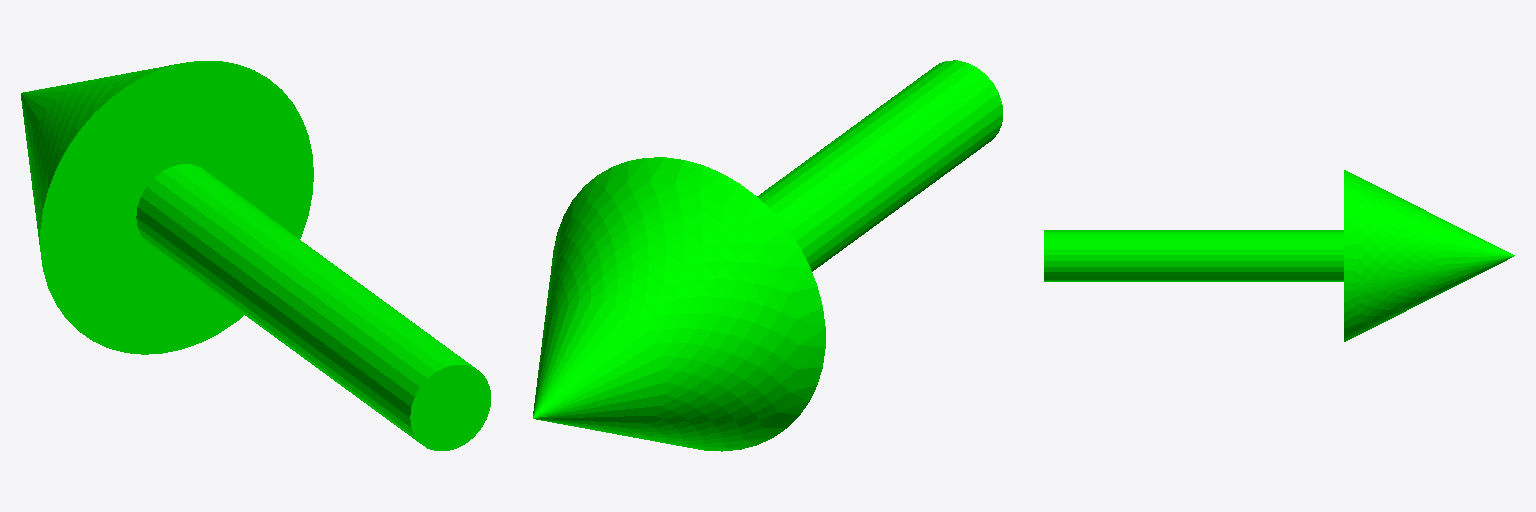
robot.urdf — green_arrow:
<?xml version="1.0"?>
<robot name="green_arrow">
  <link name="base_link">
    <visual>
      <geometry>
        <mesh filename="arrow.stl" scale="0.001 0.001 0.001"/>
      </geometry>
      <material name="green">
            <color rgba="0 1 0 1"/>
      </material>
    </visual>
    <inertial>
        <origin xyz="0 0 0" rpy="0 0 0" />
        <mass value="0" />
        <inertia ixx="0.0" ixy="0.0" ixz="0.0" iyy="0.0" iyz="0.0" izz="0.0" />
     </inertial>
  </link>
</robot>

--- Facts derived from the render (not from the file) ---
3 views of the same robot in one strip: view 1: azimuth 30°, elevation 25°; view 2: azimuth 150°, elevation 25°; view 3: azimuth 270°, elevation 25° (orthographic).
Model green_arrow with 1 links and 0 joints (none), rooted at base_link, posed all joints at 0.
Links seen in each view (by area): view 1: base_link; view 2: base_link; view 3: base_link.
Link boxes in pixels (left/top/right/bottom): base_link: left=21, top=61, right=490, bottom=450; base_link: left=533, top=60, right=1002, bottom=451; base_link: left=1044, top=170, right=1514, bottom=341.
Bounding box of the posed robot: 0.0404 × 0.11 × 0.0404 m (x, y, z).
Meshes: 1 distinct files referenced, 1 mesh visuals loaded (1 binary STL).